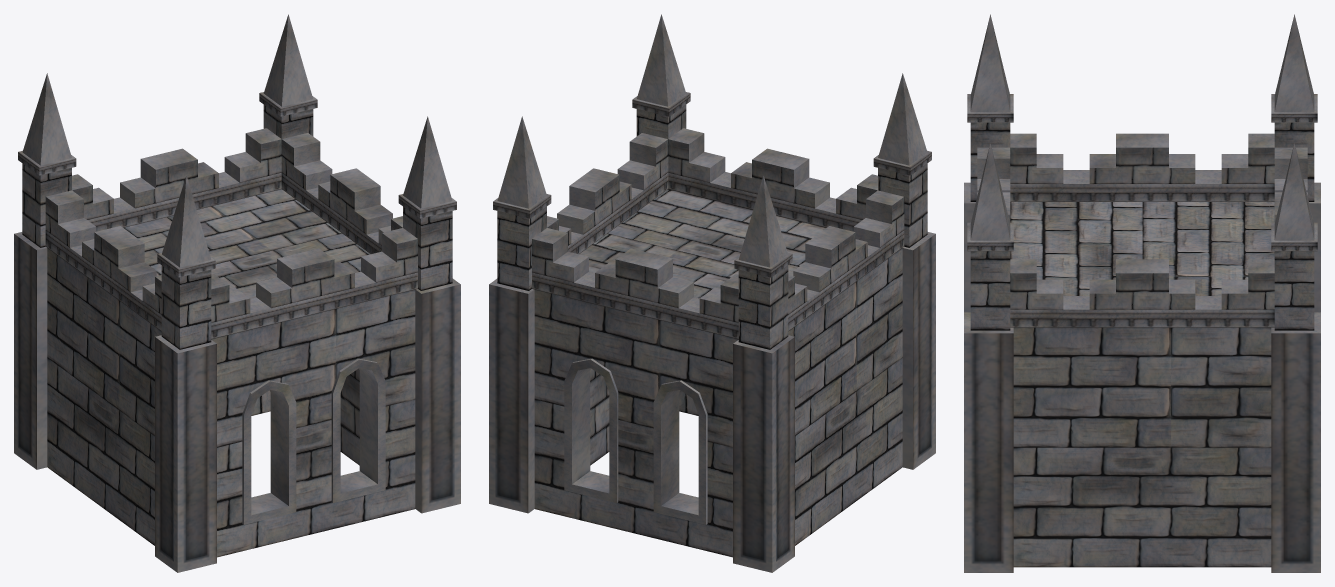
File: tower_cap_02.glb
The picture shows the model from 3 angles, left to right: view 1: azimuth 30°, elevation 25°; view 2: azimuth 150°, elevation 25°; view 3: azimuth 270°, elevation 25°; orthographic projection. The views are drawn at different scales.
Parts seen in each view (by area): view 1: tower_cap_02; view 2: tower_cap_02; view 3: tower_cap_02.
Boxes of the visible parts, x1,y1,x2,y2 form: tower_cap_02: [14, 14, 460, 572]; tower_cap_02: [489, 14, 935, 572]; tower_cap_02: [964, 14, 1320, 572].
Bounding box in the file's own units: 10.8 × 14 × 10.8.
Materials: 1 (1 with a texture image).
